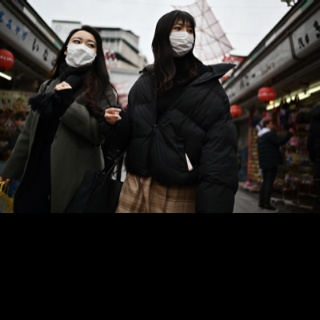with_mask: (65, 34, 98, 66), (168, 21, 195, 56)
